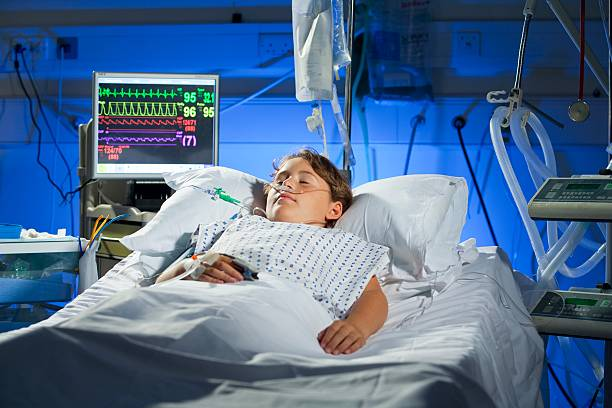bedside_monitor: (92, 71, 218, 177)
breathing_tube: (491, 103, 594, 284)
hospital_bed: (1, 176, 546, 408)
patient: (154, 150, 385, 385)
syringe_pump: (522, 169, 612, 224), (531, 284, 612, 328)
